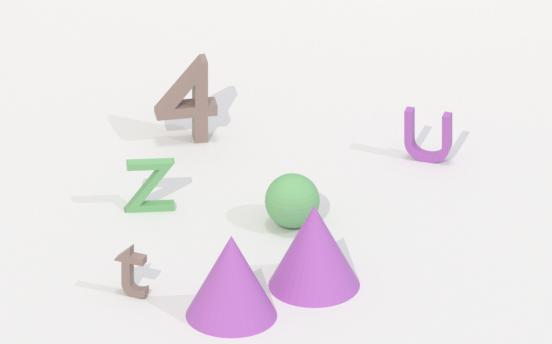4: (150, 54, 226, 146)
cau: (261, 171, 322, 232)
non: (181, 236, 284, 340), (266, 212, 362, 305)
t: (114, 243, 155, 300)
u: (397, 103, 461, 164)
z: (122, 155, 180, 215)
